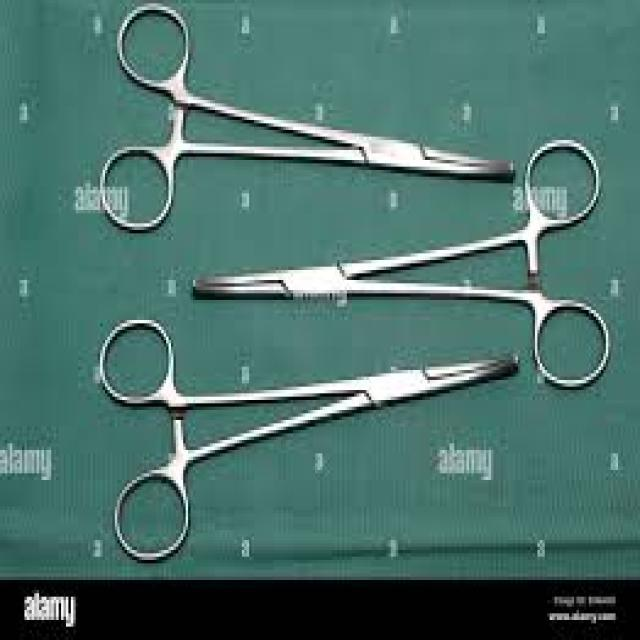Artery Forceps: (94, 301, 522, 564), (190, 136, 618, 389), (96, 3, 517, 234)
